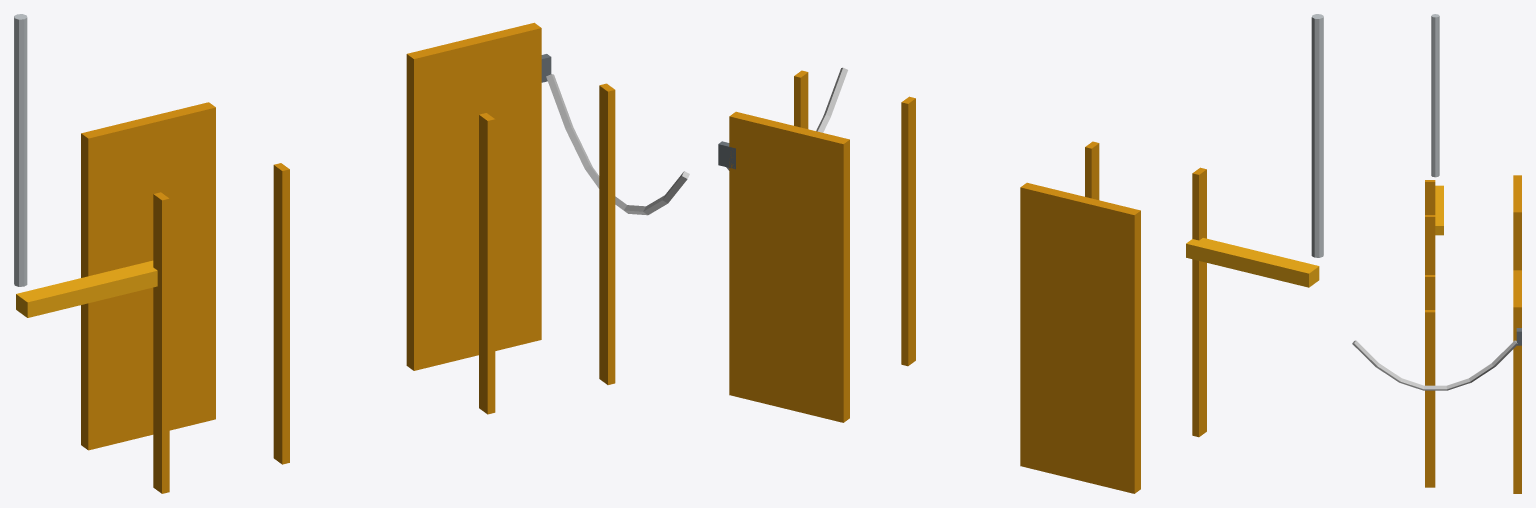
File: body.obj
3 renders of one model, left to right at view 1: azimuth 30°, elevation 25°; view 2: azimuth 150°, elevation 25°; view 3: azimuth 270°, elevation 25°, orthographic. The views are drawn at different scales.
Size of the model in its own units: 2.42 by 1.96 by 0.9818.
